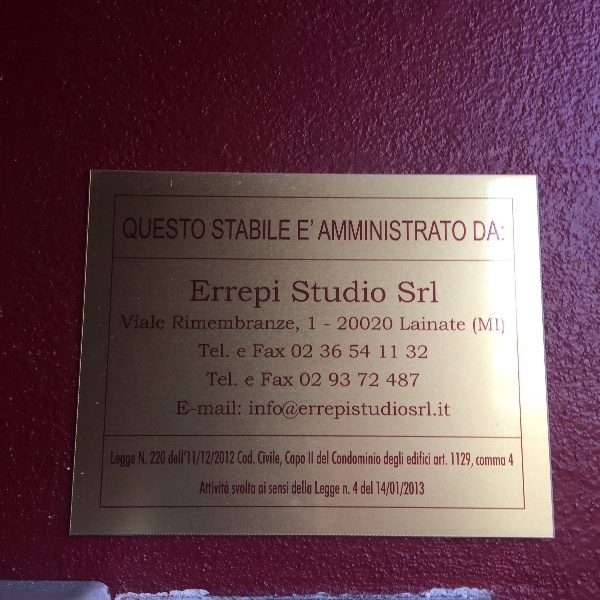text: (193, 280, 208, 310), (209, 280, 224, 310), (225, 280, 240, 310), (241, 280, 256, 310), (257, 280, 272, 310), (129, 217, 144, 240), (145, 217, 160, 240), (161, 217, 176, 240), (177, 217, 192, 240), (305, 280, 320, 303), (321, 280, 336, 303), (337, 280, 352, 303), (353, 280, 368, 303), (369, 280, 384, 303), (225, 218, 240, 240), (241, 218, 256, 240), (257, 218, 272, 240), (273, 218, 288, 240), (305, 219, 320, 241), (321, 219, 336, 241), (337, 219, 352, 241), (353, 219, 368, 241), (369, 219, 384, 241), (385, 219, 400, 241), (401, 219, 416, 241), (417, 219, 432, 241), (433, 219, 448, 241), (449, 219, 464, 241), (401, 281, 416, 303), (417, 281, 432, 303), (290, 280, 304, 303), (177, 401, 192, 422), (193, 401, 208, 422), (209, 401, 224, 422), (225, 401, 240, 422), (241, 401, 256, 422), (257, 401, 272, 422), (273, 401, 288, 422), (289, 401, 304, 422), (305, 401, 320, 422), (321, 401, 336, 422), (337, 401, 352, 422), (353, 401, 368, 422), (369, 401, 384, 422), (385, 401, 400, 422), (401, 401, 416, 422), (417, 401, 432, 422), (433, 401, 448, 422), (481, 221, 496, 241), (177, 314, 192, 333), (193, 314, 208, 333), (209, 314, 224, 333), (225, 314, 240, 333), (241, 314, 256, 333), (257, 314, 272, 333), (273, 314, 288, 333), (193, 217, 205, 240), (481, 317, 496, 335), (113, 451, 128, 469), (385, 451, 400, 469), (177, 450, 192, 467), (193, 450, 208, 467), (209, 450, 224, 467), (289, 450, 304, 467), (321, 481, 336, 498), (213, 218, 224, 240), (273, 280, 281, 310), (385, 481, 400, 497), (401, 481, 416, 497), (258, 450, 272, 467), (209, 343, 224, 358), (257, 343, 272, 358), (209, 372, 224, 387), (305, 372, 320, 387), (449, 317, 465, 331), (353, 345, 368, 359), (401, 317, 416, 331), (417, 317, 432, 331), (433, 317, 448, 331), (321, 317, 336, 331), (337, 317, 352, 331), (353, 317, 368, 331), (369, 317, 384, 331), (273, 372, 288, 386), (401, 373, 416, 387), (145, 451, 160, 465), (241, 480, 256, 494), (337, 451, 352, 465), (353, 451, 368, 465), (129, 315, 144, 329), (145, 315, 160, 329), (289, 314, 300, 333), (337, 373, 351, 387), (417, 451, 431, 465), (273, 343, 286, 358), (321, 345, 336, 358), (225, 372, 238, 387), (209, 481, 224, 494), (451, 453, 464, 468), (273, 482, 289, 494), (225, 450, 236, 467), (291, 344, 304, 358), (385, 345, 398, 359), (241, 451, 255, 464), (273, 450, 283, 467), (259, 481, 272, 494), (292, 480, 304, 494), (369, 451, 381, 465), (434, 454, 448, 466), (417, 345, 428, 359), (309, 317, 320, 331), (357, 373, 368, 387), (369, 373, 380, 387), (198, 343, 208, 358), (309, 451, 320, 464), (262, 372, 272, 386), (465, 453, 474, 468), (481, 457, 496, 466), (433, 281, 439, 303), (417, 481, 425, 497), (407, 345, 416, 359), (473, 317, 480, 335), (497, 317, 504, 335), (385, 317, 394, 331), (129, 451, 136, 469), (343, 481, 352, 495), (407, 451, 416, 465), (474, 221, 480, 241), (169, 450, 176, 467), (305, 344, 313, 358), (328, 373, 336, 387), (392, 373, 400, 387), (232, 480, 240, 494), (377, 481, 384, 497), (299, 219, 304, 241), (246, 376, 256, 387), (361, 480, 368, 495), (321, 451, 329, 464), (305, 480, 312, 494), (121, 315, 128, 329), (124, 217, 128, 240), (396, 281, 400, 303), (497, 457, 506, 466), (497, 221, 501, 241), (202, 481, 208, 494), (225, 343, 230, 358), (289, 372, 294, 386), (139, 451, 144, 465), (161, 451, 166, 465), (353, 481, 358, 495), (316, 481, 320, 498), (337, 345, 342, 358), (300, 372, 304, 387), (369, 480, 373, 495), (173, 314, 176, 333), (380, 345, 384, 359), (332, 451, 336, 465), (161, 315, 165, 329), (401, 451, 404, 469), (225, 481, 229, 494), (285, 450, 288, 467), (337, 481, 340, 498), (241, 348, 246, 358), (205, 372, 208, 387), (417, 373, 420, 387), (449, 401, 451, 422), (317, 451, 320, 464), (269, 482, 272, 494), (191, 280, 192, 310), (254, 343, 256, 358), (321, 372, 323, 387), (369, 345, 371, 359), (477, 457, 480, 466), (238, 451, 240, 464), (385, 280, 386, 303), (289, 218, 290, 240), (465, 219, 466, 241), (238, 348, 240, 358), (111, 451, 112, 469), (305, 450, 306, 467), (351, 345, 352, 359), (511, 453, 512, 467)
